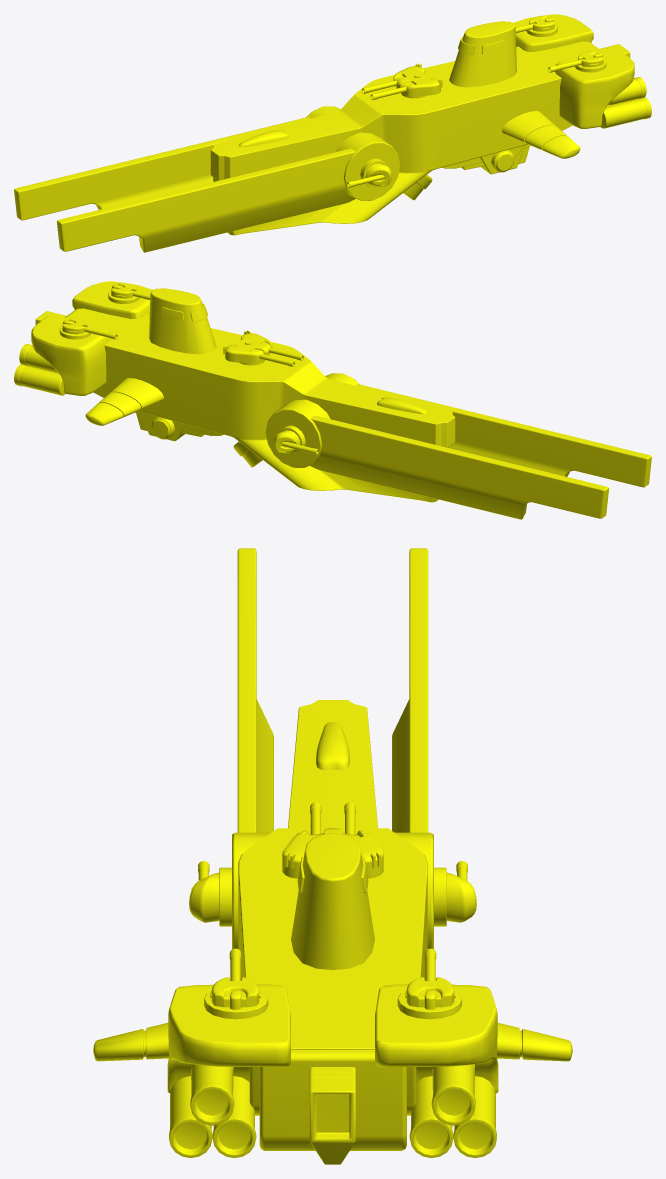
Rendered from light_cruiser_01.glb.
The picture shows the model from 3 angles, top to bottom: view 1: azimuth 30°, elevation 25°; view 2: azimuth 150°, elevation 25°; view 3: azimuth 270°, elevation 25°; orthographic projection. The views are drawn at different scales.
Parts seen in each view (by area): view 1: Light_Cruiser_1; view 2: Light_Cruiser_1; view 3: Light_Cruiser_1.
Boxes of the visible parts, x1,y1,x2,y2 form: Light_Cruiser_1: (14, 14, 651, 252); Light_Cruiser_1: (14, 281, 651, 519); Light_Cruiser_1: (93, 548, 572, 1164).
Size of the model in its own units: 77.73 by 18.6 by 27.48.
1 material, 1 textured.
